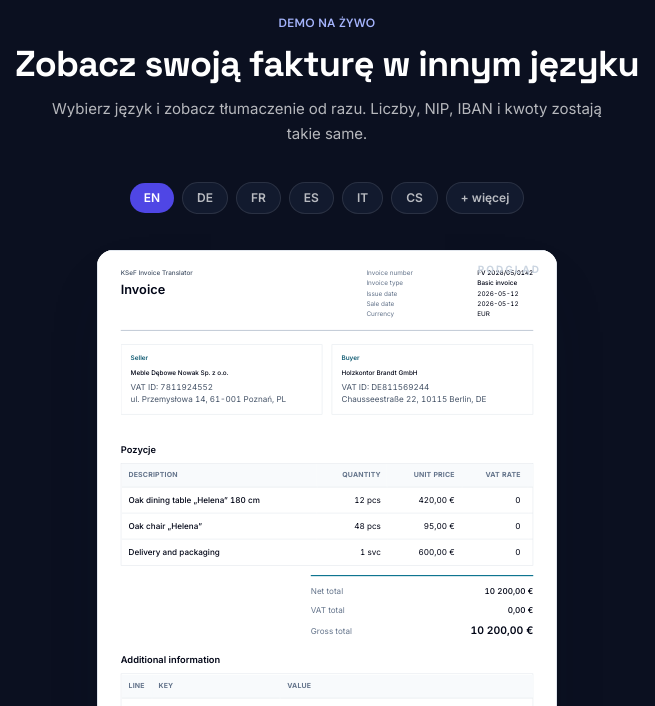
Test: <DemoSection> › re renders the invoice in the chosen language when a chip is clicked
Click the button "DE" at {"x": 205, "y": 198}, box [182,182,228,214]
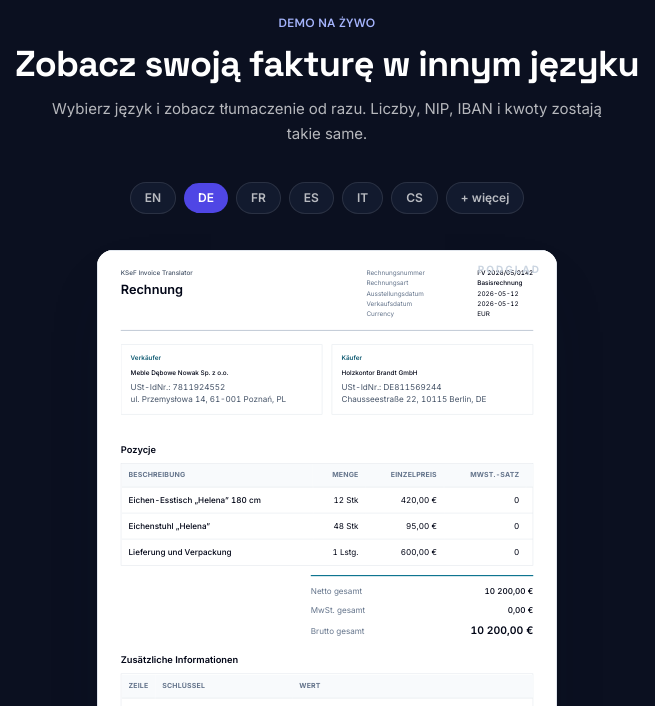
Result: the text "Eichenstuhl „Helena”" is shown at [128,521,210,531]
Result: the text "Oak chair „Helena”" is gone
